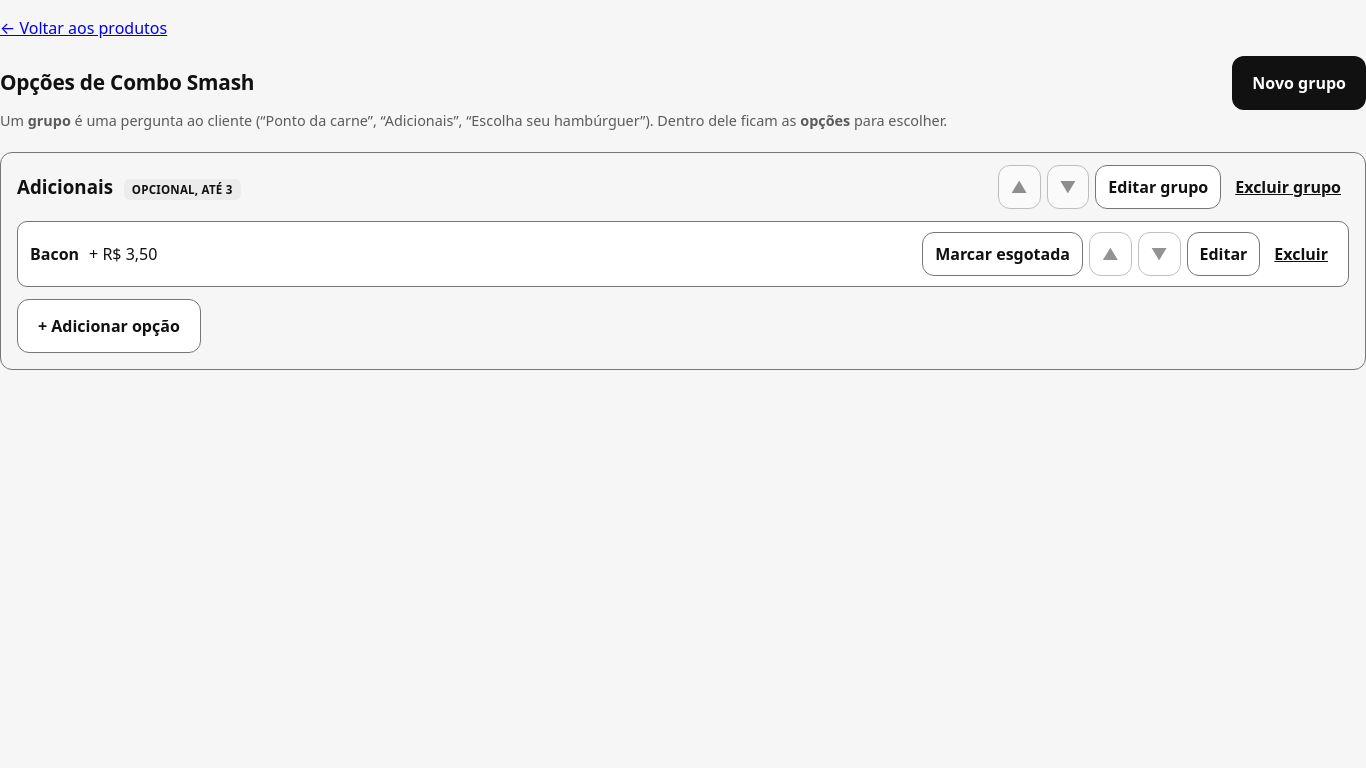
Test case: Admin: opções do produto › edição de opção vem preenchida
Click the button with aria-label "Editar opção Bacon": (1223, 254) [1186, 232, 1260, 276]
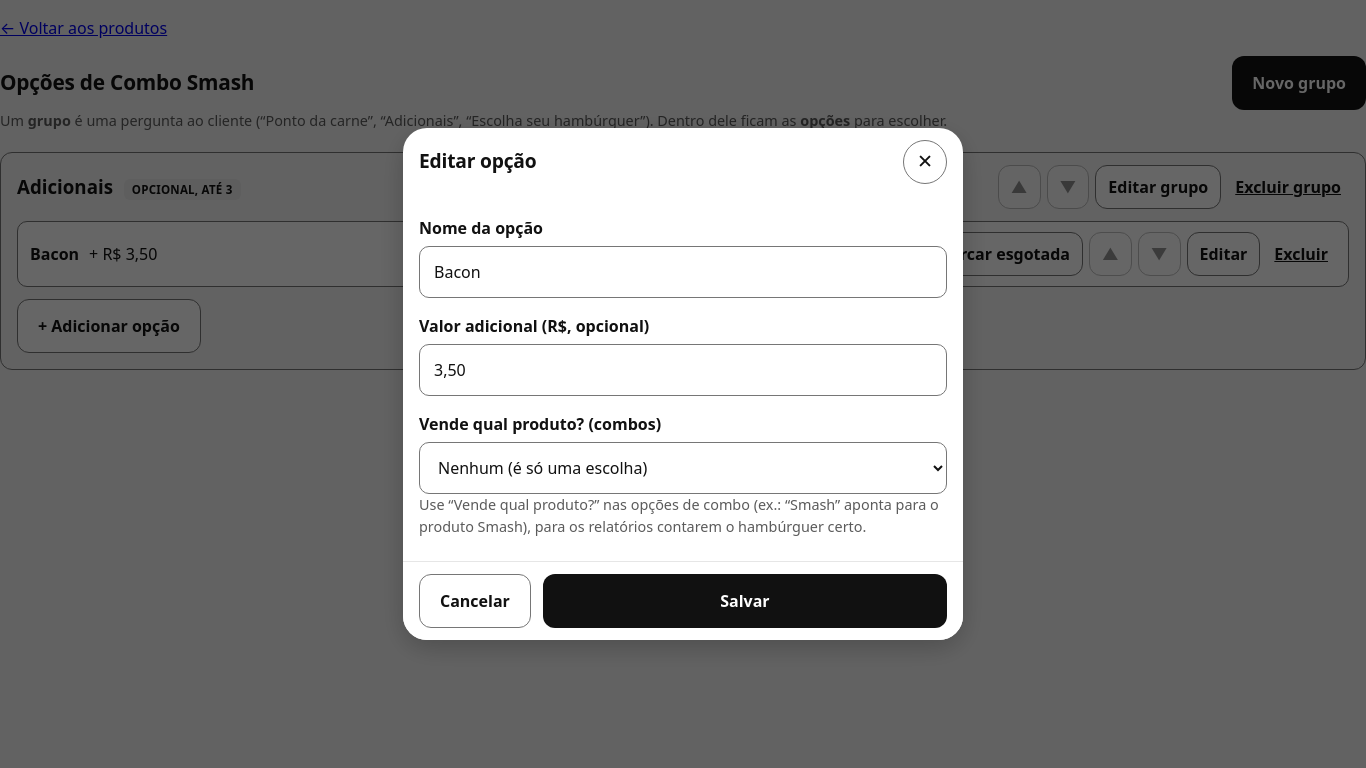
Check: the field labelled "Nome da opção" holds "Bacon", box [419, 246, 947, 298]
Check: the field labelled "Valor adicional (R$, opcional)" holds "3,50", box [419, 344, 947, 396]
